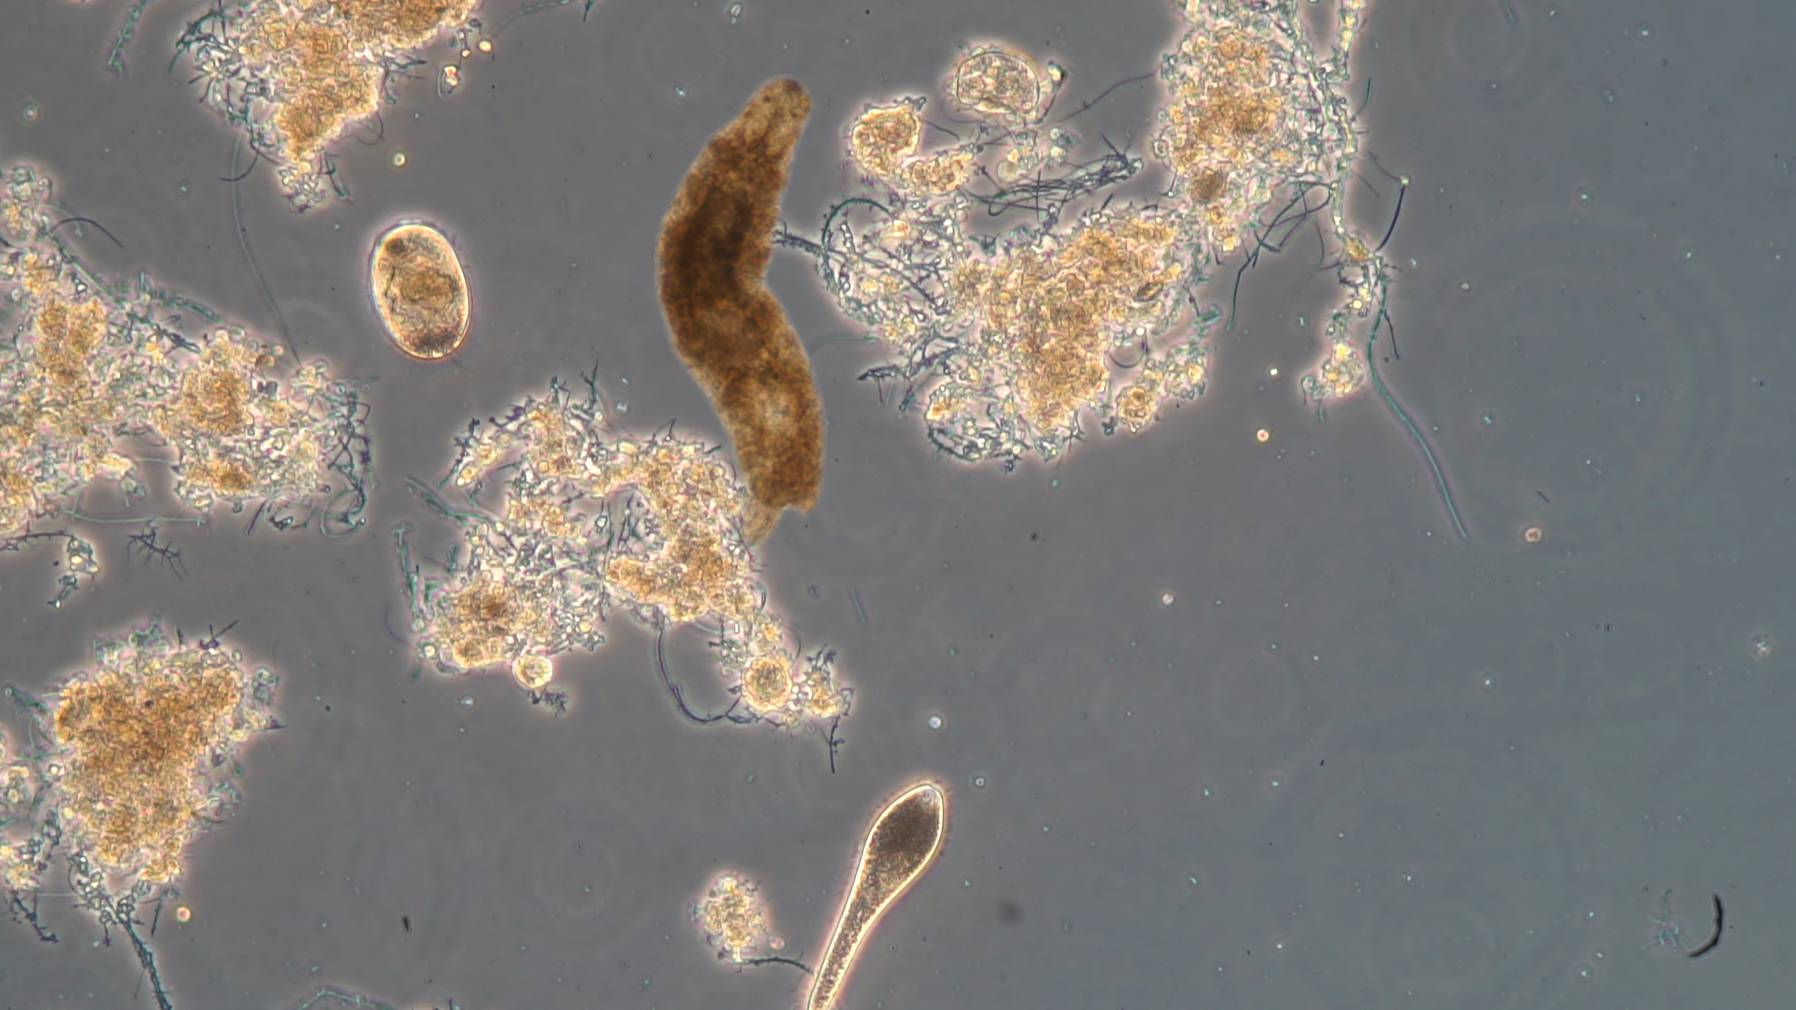Tardigrade: (656, 78, 824, 543)
